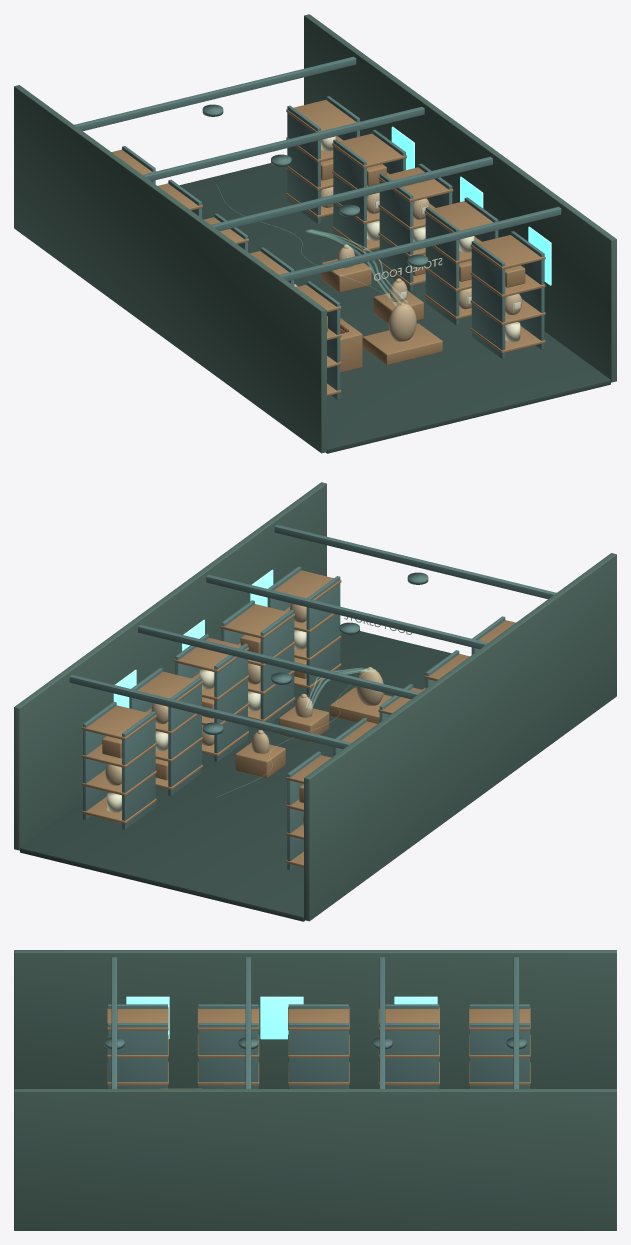
The model's file is aerosense_01_warehouse_v3.glb.
The picture shows the model from 3 angles, top to bottom: view 1: azimuth 30°, elevation 25°; view 2: azimuth 150°, elevation 25°; view 3: azimuth 270°, elevation 25°; orthographic projection. The views are drawn at different scales.
Parts seen in each view (by area): view 1: Wall, WarehouseFloor, Wall.001, Upright_1_0_-0.66, Upright_1_1_-0.66, Upright_1_2_-0.66, Upright_1_3_-0.66, CeilingBeam.003, CeilingBeam, CeilingBeam.001, CeilingBeam.002, Upright_1_4_-0.66 (+14 smaller); view 2: Wall, WarehouseFloor, Wall.001, Upright_1_4_-0.66, Upright_1_3_-0.66, Upright_1_0_-0.66, Upright_1_1_-0.66, Upright_1_2_-0.66, CeilingBeam, CeilingBeam.002, CeilingBeam.003, CeilingBeam.001 (+12 smaller); view 3: Wall.001, Wall, Upright_-1_2_0.66, Upright_-1_3_0.66, Upright_-1_0_0.66, Upright_-1_4_0.66, Upright_-1_1_0.66, Window_luminous.002, ShelfPlank.011, ShelfPlank.007, ShelfPlank.003, ShelfPlank.015 (+7 smaller).
Boxes of the visible parts, x1,y1,x2,y2 form: Wall: (14,85,326,453); WarehouseFloor: (179,163,610,453); Wall.001: (304,14,616,382); Upright_1_0_-0.66: (471,240,505,359); Upright_1_1_-0.66: (425,207,459,325); Upright_1_2_-0.66: (379,173,413,291); Upright_1_3_-0.66: (333,139,366,254); CeilingBeam.003: (74,56,356,130); CeilingBeam: (279,206,561,281); CeilingBeam.001: (211,156,492,231); CeilingBeam.002: (143,106,424,181); Upright_1_4_-0.66: (287,105,320,224); Wall: (304,553,616,921); WarehouseFloor: (20,631,451,921); Wall.001: (14,482,326,850); Upright_1_4_-0.66: (122,711,155,829); Upright_1_3_-0.66: (168,677,201,795); Upright_1_0_-0.66: (306,576,340,694); Upright_1_1_-0.66: (260,610,294,722); Upright_1_2_-0.66: (214,643,247,762); CeilingBeam: (274,524,556,598); CeilingBeam.002: (138,624,419,699); CeilingBeam.003: (69,674,351,749); CeilingBeam.001: (206,574,487,649); Wall.001: (14,1089,616,1230); Wall: (14,950,616,1088); Upright_-1_2_0.66: (288,1023,348,1088); Upright_-1_3_0.66: (379,1023,439,1088); Upright_-1_0_0.66: (107,1023,167,1088); Upright_-1_4_0.66: (469,1023,529,1088); Upright_-1_1_0.66: (198,1023,258,1088); Window_luminous.002: (260,996,303,1039); ShelfPlank.011: (288,1007,349,1030); ShelfPlank.007: (197,1007,259,1030); ShelfPlank.003: (107,1007,168,1030); ShelfPlank.015: (378,1007,439,1030).
Size of the model in its own units: 10 by 4.66 by 18.
